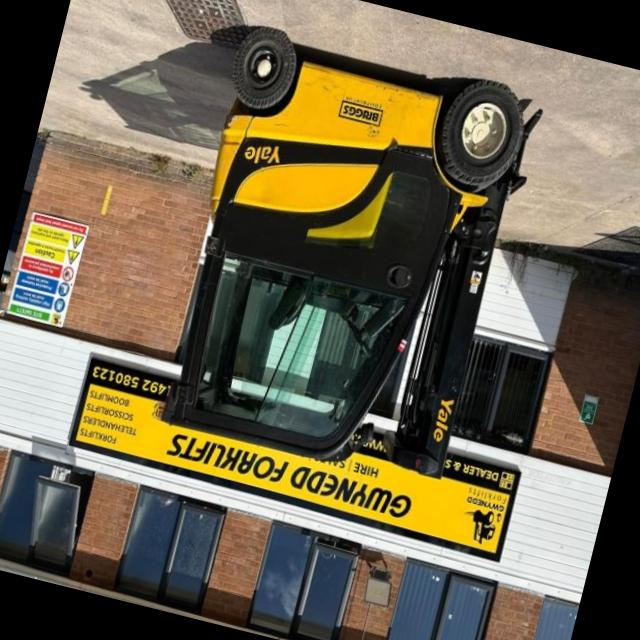forklift: (137, 12, 568, 511)
